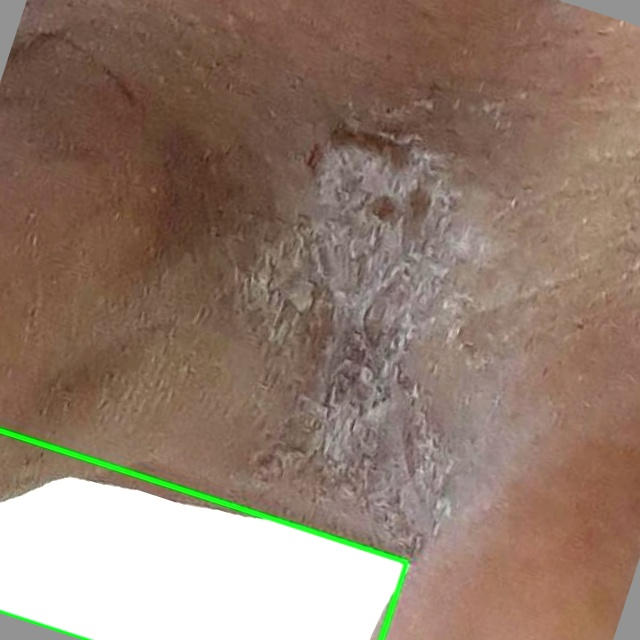Contact Dermatitis: (0, 430, 407, 639)
